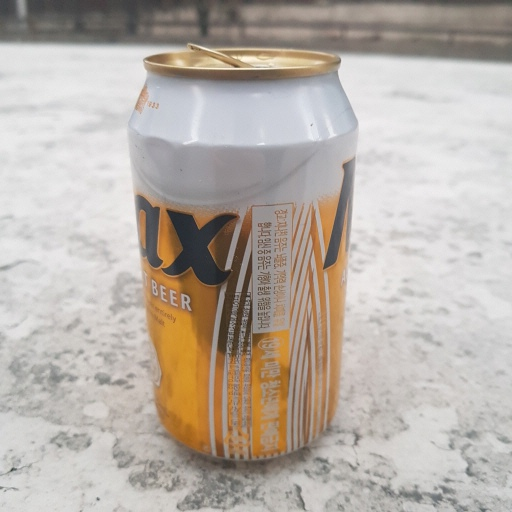Metal_0: (129, 41, 357, 464)
